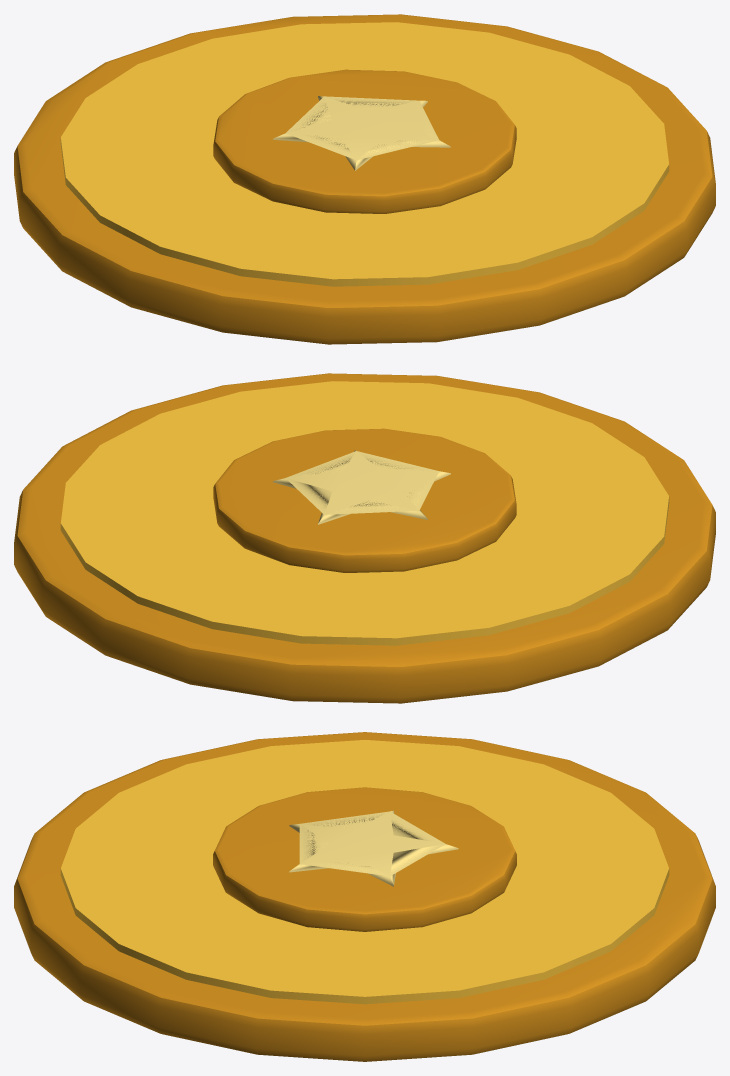
The model's file is SellPad.fbx.
3 renders of one model, top to bottom at view 1: azimuth 30°, elevation 25°; view 2: azimuth 150°, elevation 25°; view 3: azimuth 270°, elevation 25°, orthographic.
Parts seen in each view (by area): view 1: SellPad; view 2: SellPad; view 3: SellPad.
Part boxes in pixels (x1,y1,x2,y2): SellPad: (14,14,715,344); SellPad: (14,373,715,703); SellPad: (14,732,715,1061).
Bounding box in the file's own units: 6 × 0.7 × 6.
Materials: 1 (1 with a texture image).
